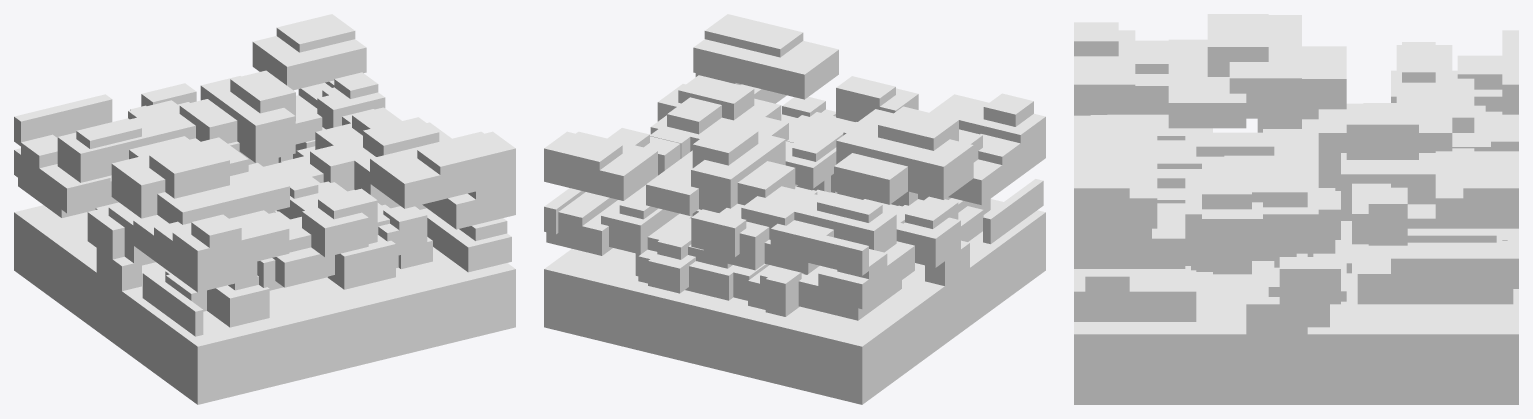
File: Cloud Tile.obj
3 views of the same model, side by side, from view 1: azimuth 30°, elevation 25°; view 2: azimuth 150°, elevation 25°; view 3: azimuth 270°, elevation 25° (orthographic). The views are drawn at different scales.
Bounding box in the file's own units: 8 × 4.4 × 8.
1 material, 1 textured.
